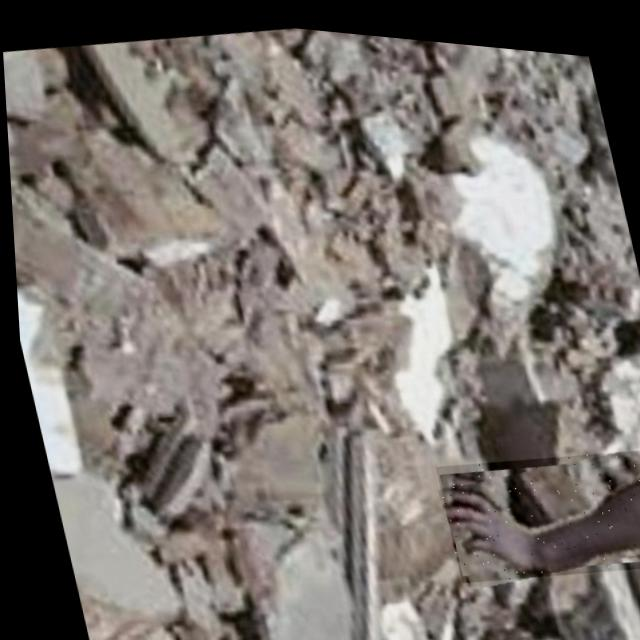Person in Rubble: (427, 414, 640, 589)
